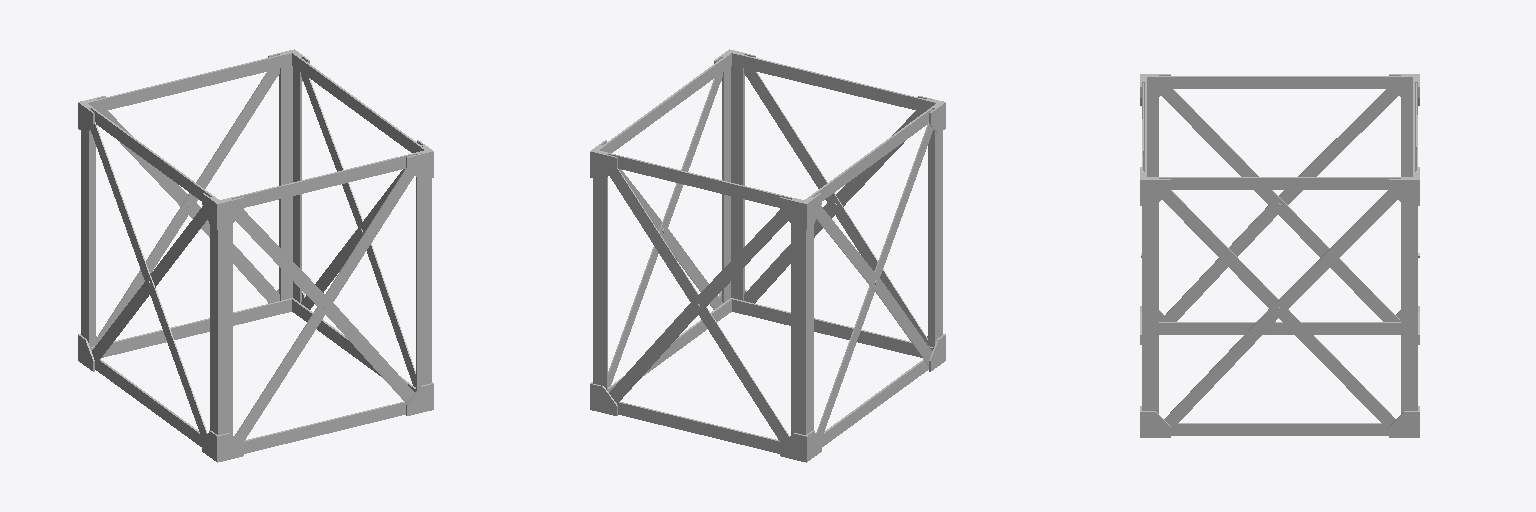
The model's file is elevatorShaft.obj.
The picture shows the model from 3 angles: view 1: azimuth 30°, elevation 25°; view 2: azimuth 150°, elevation 25°; view 3: azimuth 270°, elevation 25°; orthographic projection.
Visible parts, largest first — view 1: elevatorShaft.001; view 2: elevatorShaft.001; view 3: elevatorShaft.001.
Part boxes in pixels (left/top/right/bottom): elevatorShaft.001: left=78, top=49, right=433, bottom=462; elevatorShaft.001: left=590, top=49, right=945, bottom=462; elevatorShaft.001: left=1140, top=74, right=1419, bottom=437.
Bounding box in the file's own units: 3.14 × 3.58 × 3.5.